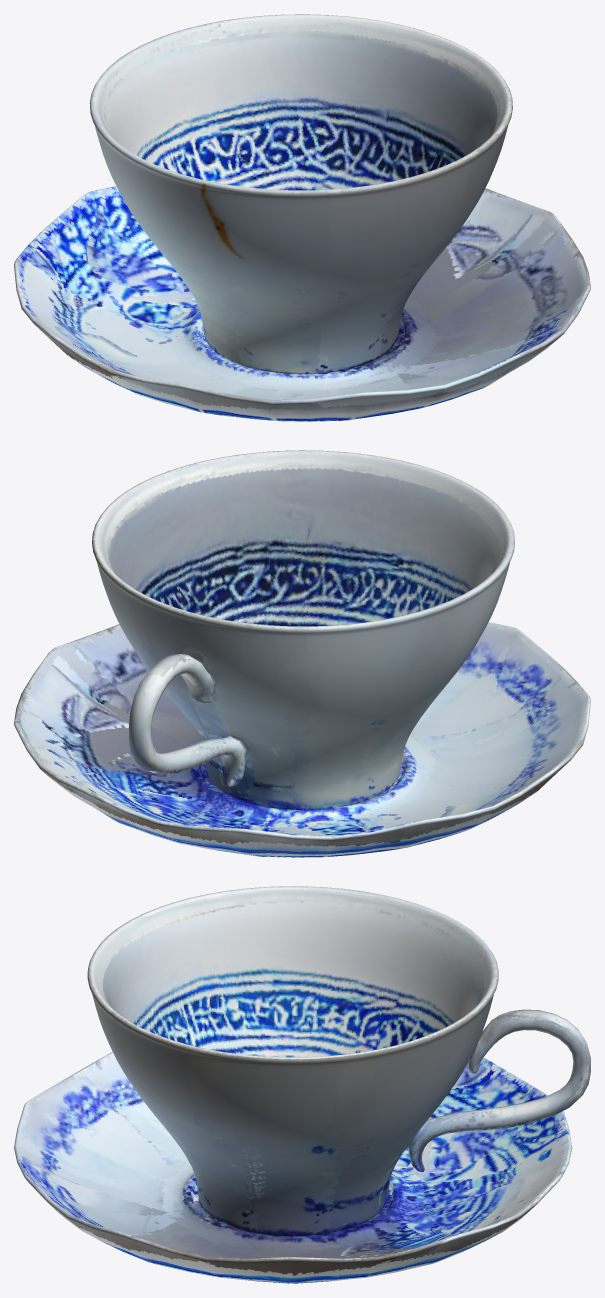
3 renders of one model, top to bottom at view 1: azimuth 30°, elevation 25°; view 2: azimuth 150°, elevation 25°; view 3: azimuth 270°, elevation 25°, orthographic. The views are drawn at different scales.
Visible parts, largest first — view 1: 9.004; view 2: 9.004; view 3: 9.004.
Boxes of the visible parts, box(x1,y1,x2,y2) form: 9.004: box(14, 14, 590, 421); 9.004: box(14, 450, 590, 857); 9.004: box(14, 886, 590, 1283).
Size of the model in its own units: 1.95 by 0.945 by 2.
Materials: 1 (1 with a texture image).
